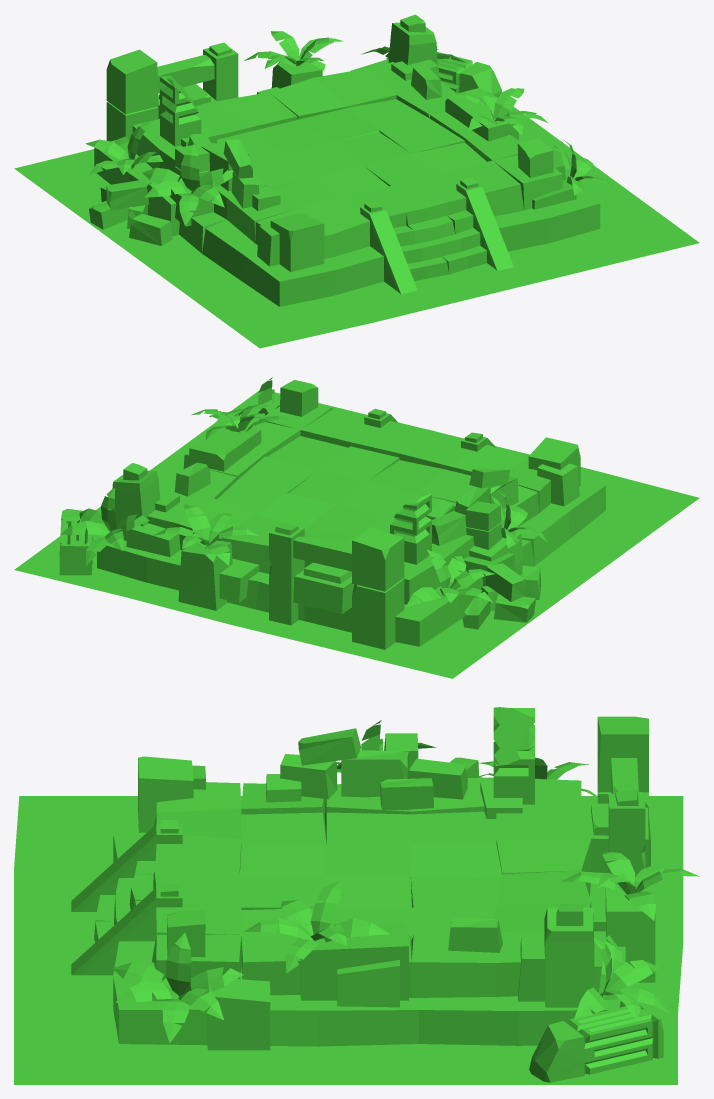
Rendered from Temple_ruins.glb.
3 renders of one model, top to bottom at view 1: azimuth 30°, elevation 25°; view 2: azimuth 150°, elevation 25°; view 3: azimuth 270°, elevation 25°, orthographic. The views are drawn at different scales.
Parts seen in each view (by area): view 1: Temple_0, Seashore_0, Bricks_1, FernB.002_0, Bricks_0, FernA.001_0, FernB_0, FernA_0, FernB.003_0, Bricks_2; view 2: Temple_0, Seashore_0, Bricks_1, Bricks_0, FernB.001_0, FernA_0, FernB_0, FernA.001_0, FernB.002_0, Bricks_2, FernB.003_0; view 3: Temple_0, Seashore_0, FernB.003_0, Bricks_1, Bricks_0, FernA.001_0, FernB.001_0, FernA_0, Temple_1, Bricks_2, FernB_0, FernB.002_0.
Part boxes in pixels (box(x1,y1,x2,y2)): Temple_0: box(94, 14, 600, 306); Seashore_0: box(14, 106, 699, 348); Bricks_1: box(89, 65, 441, 245); FernB.002_0: box(142, 144, 233, 225); Bricks_0: box(106, 133, 233, 210); FernA.001_0: box(452, 88, 548, 135); FernB_0: box(85, 121, 163, 176); FernA_0: box(244, 31, 343, 70); FernB.003_0: box(552, 139, 613, 195); Bricks_2: box(231, 171, 259, 208); Temple_0: box(59, 380, 605, 649); Seashore_0: box(14, 391, 699, 678); Bricks_1: box(174, 462, 540, 629); Bricks_0: box(432, 486, 524, 601); FernB.001_0: box(60, 488, 149, 565); FernA_0: box(153, 504, 259, 565); FernB_0: box(406, 549, 494, 606); FernA.001_0: box(190, 404, 293, 440); FernB.002_0: box(491, 490, 548, 548); Bricks_2: box(490, 476, 518, 508); FernB.003_0: box(217, 377, 279, 420); Temple_0: box(71, 707, 663, 1082); Seashore_0: box(14, 796, 683, 1084); FernB.003_0: box(112, 932, 243, 1043); Bricks_1: box(298, 728, 502, 952); Bricks_0: box(341, 750, 479, 799); FernA.001_0: box(244, 880, 389, 973); FernB.001_0: box(574, 935, 670, 1021); FernA_0: box(561, 851, 699, 920); Temple_1: box(493, 707, 534, 765); Bricks_2: box(280, 754, 337, 804); FernB_0: box(473, 757, 597, 797); FernB.002_0: box(335, 720, 436, 772).
Bounding box in the file's own units: 5.47 × 1.34 × 5.49.
